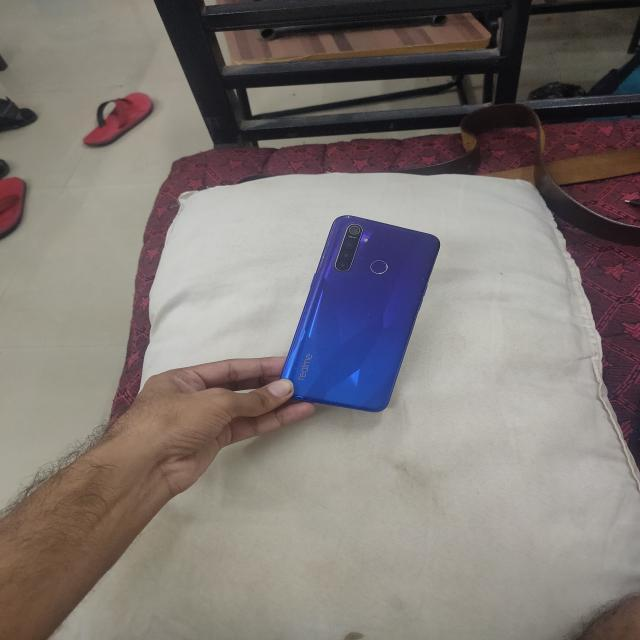Phone: (272, 212, 443, 416)
